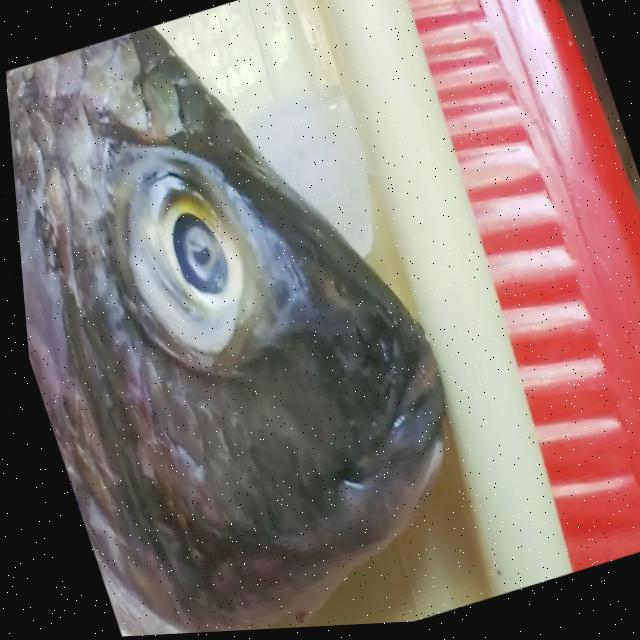Fresh: (79, 98, 322, 463)
